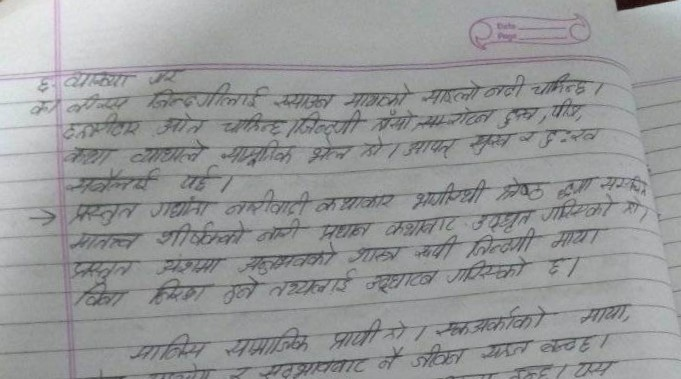text: (431, 309, 551, 334), (147, 85, 259, 110), (226, 327, 309, 358), (119, 329, 214, 356), (236, 249, 337, 272), (66, 170, 153, 196), (153, 224, 242, 249), (407, 178, 486, 206), (448, 261, 534, 286), (271, 274, 354, 299), (224, 191, 306, 216), (221, 141, 292, 167), (130, 142, 206, 166), (364, 270, 436, 294), (419, 107, 493, 130), (69, 280, 127, 309), (64, 228, 143, 249), (63, 257, 144, 277), (154, 254, 224, 277), (414, 342, 475, 368), (313, 192, 396, 211), (66, 202, 141, 223), (221, 112, 283, 137), (343, 84, 410, 107), (61, 118, 137, 138), (297, 113, 364, 135), (272, 86, 334, 109), (536, 127, 598, 150), (544, 203, 614, 223), (384, 217, 456, 236), (573, 299, 635, 321), (62, 91, 130, 111), (329, 320, 377, 348), (481, 337, 537, 361), (151, 199, 211, 221), (472, 208, 532, 230), (345, 243, 404, 265), (497, 177, 544, 204), (402, 137, 457, 160), (532, 73, 591, 94), (145, 55, 187, 84), (569, 361, 636, 379), (149, 281, 206, 302), (60, 70, 130, 87), (314, 221, 373, 241), (467, 237, 536, 254), (62, 145, 115, 167), (421, 82, 477, 102), (468, 132, 510, 157), (486, 75, 526, 101), (601, 172, 646, 195), (158, 112, 205, 134), (414, 238, 458, 261), (552, 230, 608, 248), (306, 140, 349, 163), (543, 336, 600, 353), (257, 223, 304, 243), (499, 102, 538, 126), (370, 111, 410, 133), (181, 168, 215, 192), (223, 279, 255, 304), (554, 173, 592, 194), (383, 318, 410, 343), (549, 100, 587, 117), (374, 353, 402, 374), (360, 138, 384, 161), (621, 198, 645, 217), (548, 255, 565, 278), (28, 101, 55, 115), (518, 128, 532, 148), (35, 73, 49, 92)
